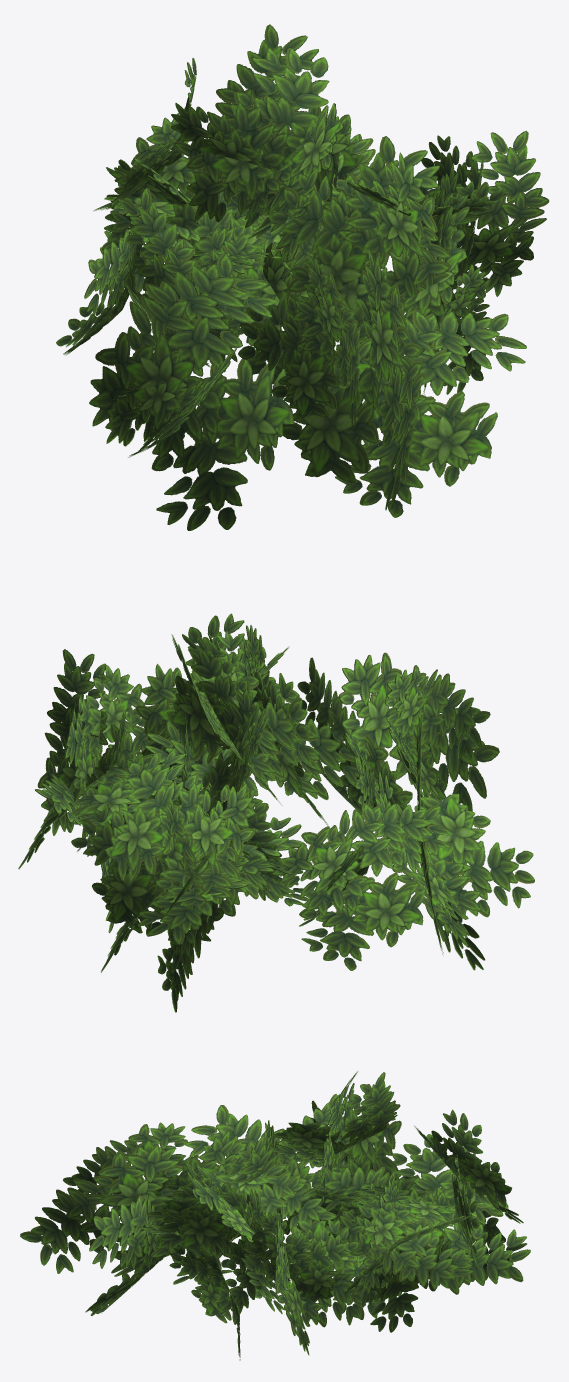
File: HojasArbol.fbx
The picture shows the model from 3 angles, top to bottom: view 1: azimuth 30°, elevation 25°; view 2: azimuth 150°, elevation 25°; view 3: azimuth 270°, elevation 25°; orthographic projection. The views are drawn at different scales.
Visible parts, largest first — view 1: HojasArboles; view 2: HojasArboles; view 3: HojasArboles.
Part boxes in pixels (x1,y1,x2,y2): HojasArboles: (56, 24, 549, 530); HojasArboles: (18, 613, 534, 1012); HojasArboles: (20, 1071, 530, 1360).
Size of the model in its own units: 2011 by 1586 by 2431.
